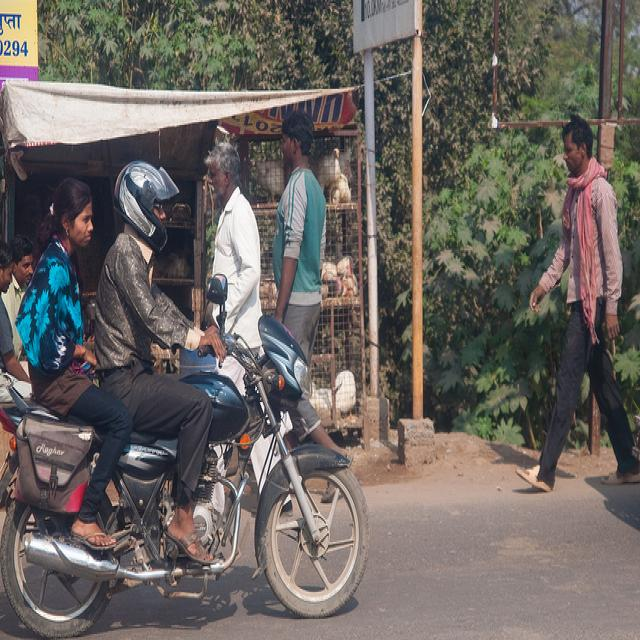motor: (1, 328, 363, 629)
